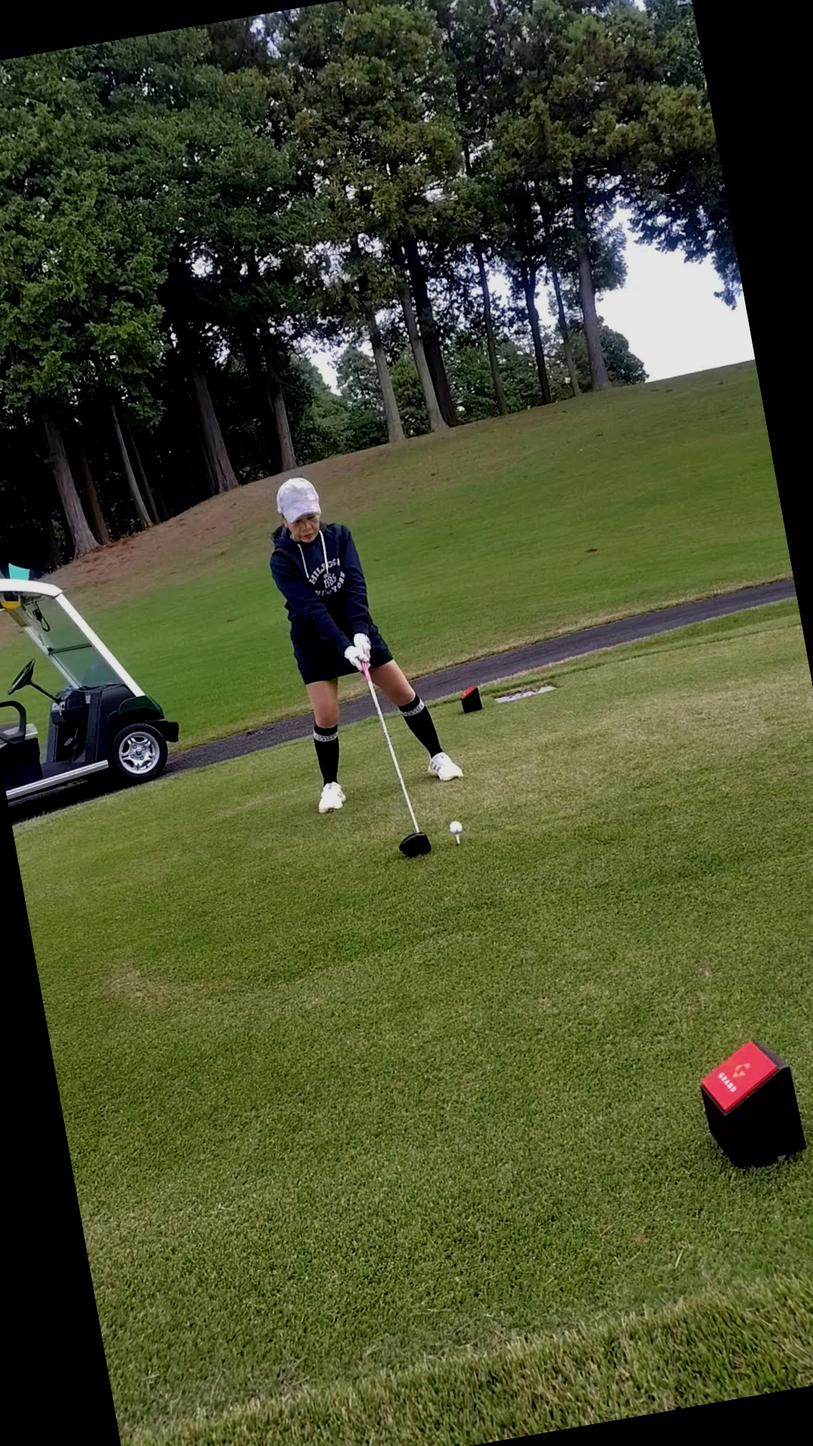clubhead: (335, 780, 527, 926)
